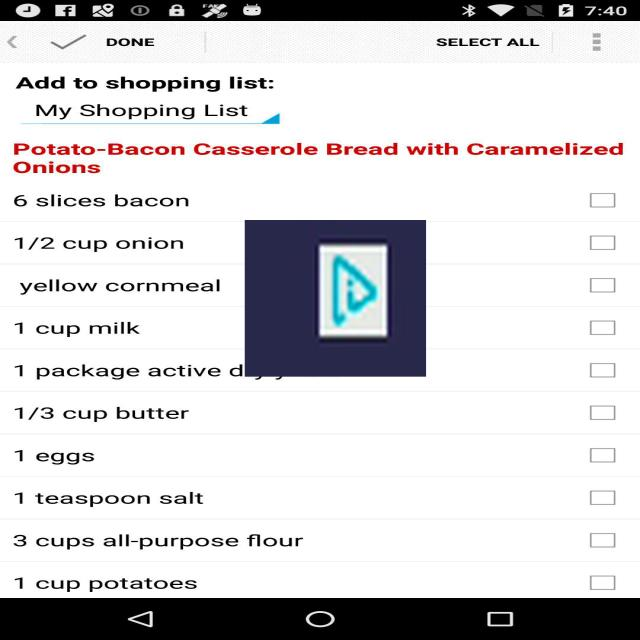sneaking: (245, 220, 426, 377)
